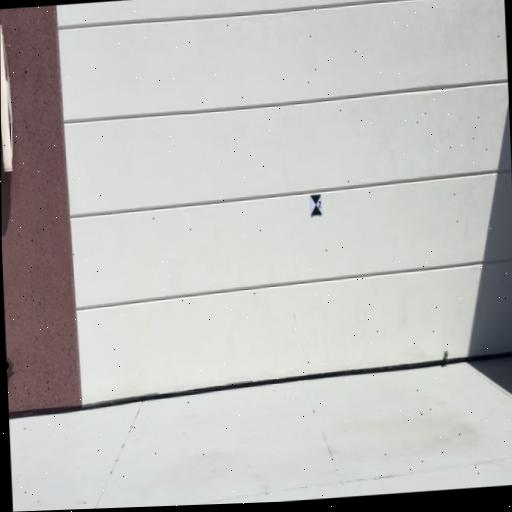target7: (309, 195, 322, 216)
